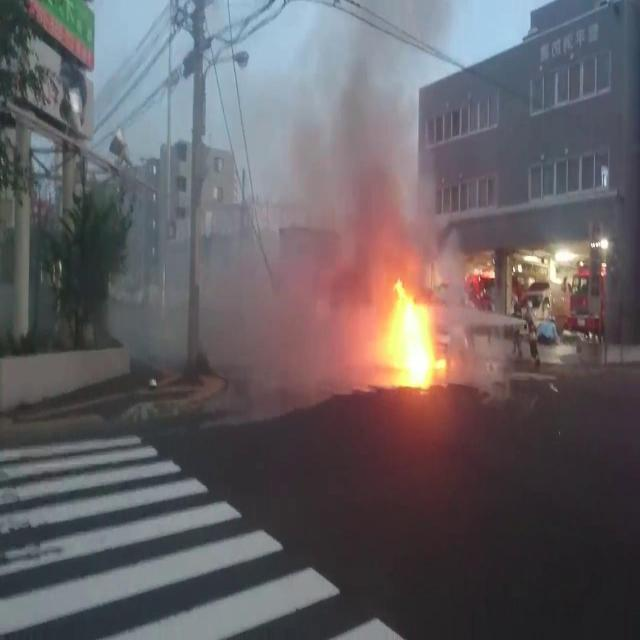Fire: (380, 281, 444, 392)
